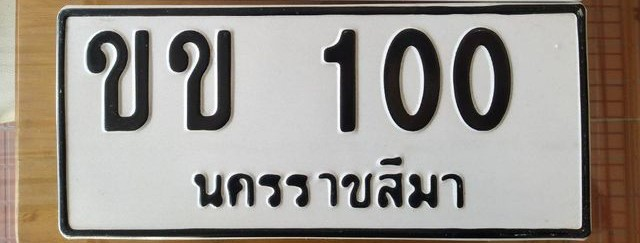txt02: (82, 27, 155, 134), (165, 26, 237, 134)
